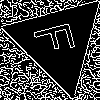F: (32, 17, 85, 58)
